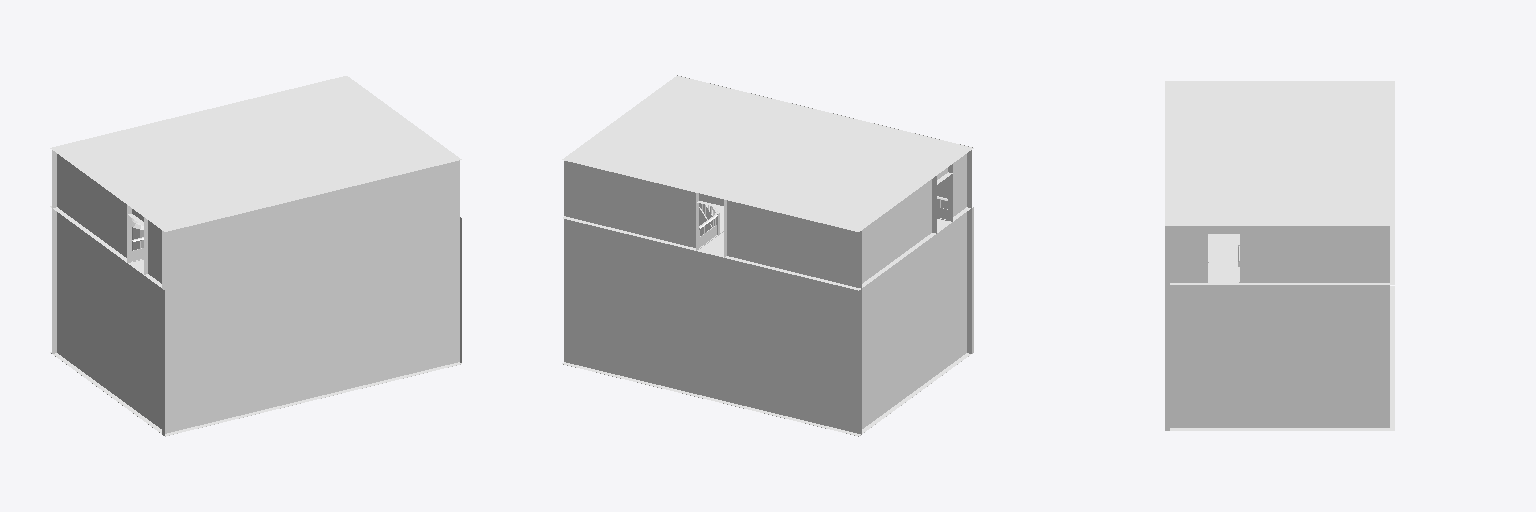
Rendered from HC_room3_pit.obj.
3 renders of one model, left to right at view 1: azimuth 30°, elevation 25°; view 2: azimuth 150°, elevation 25°; view 3: azimuth 270°, elevation 25°, orthographic.
Parts seen in each view (by area): view 1: room3pit; view 2: room3pit; view 3: room3pit.
Part boxes in pixels (x1,y1,x2,y2): room3pit: (50,76,461,436); room3pit: (562,75,973,436); room3pit: (1165,81,1394,430).
Size of the model in its own units: 20.48 by 13.46 by 13.76.